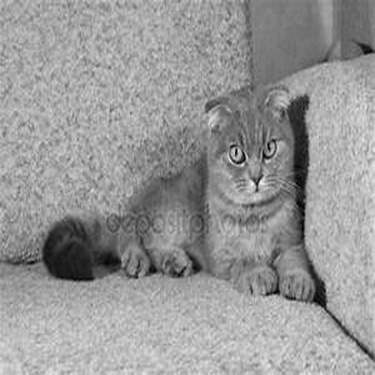cat: (42, 85, 317, 302)
